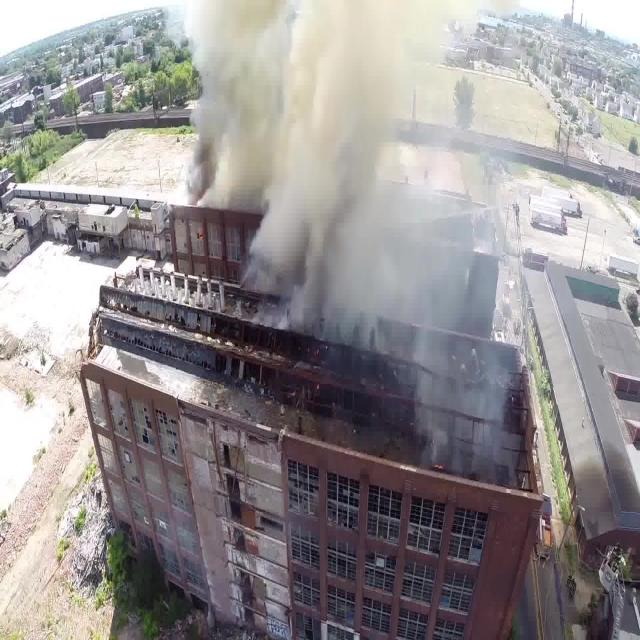Smoke: (182, 0, 532, 477)
